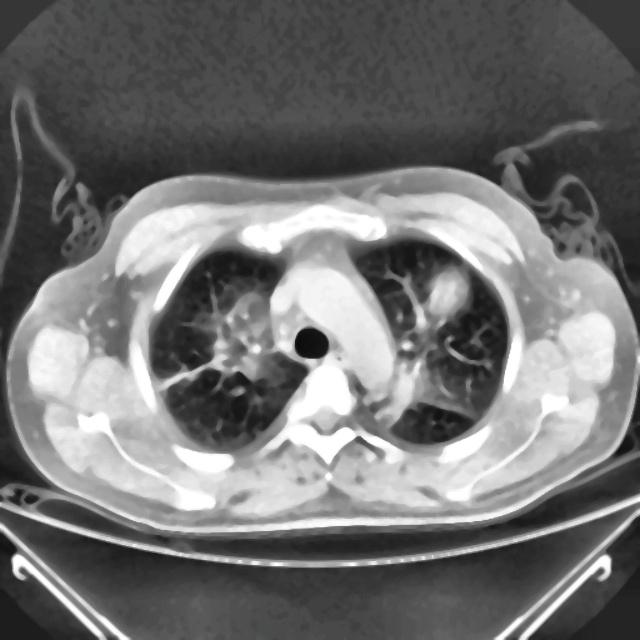covid: (5, 162, 638, 538)
